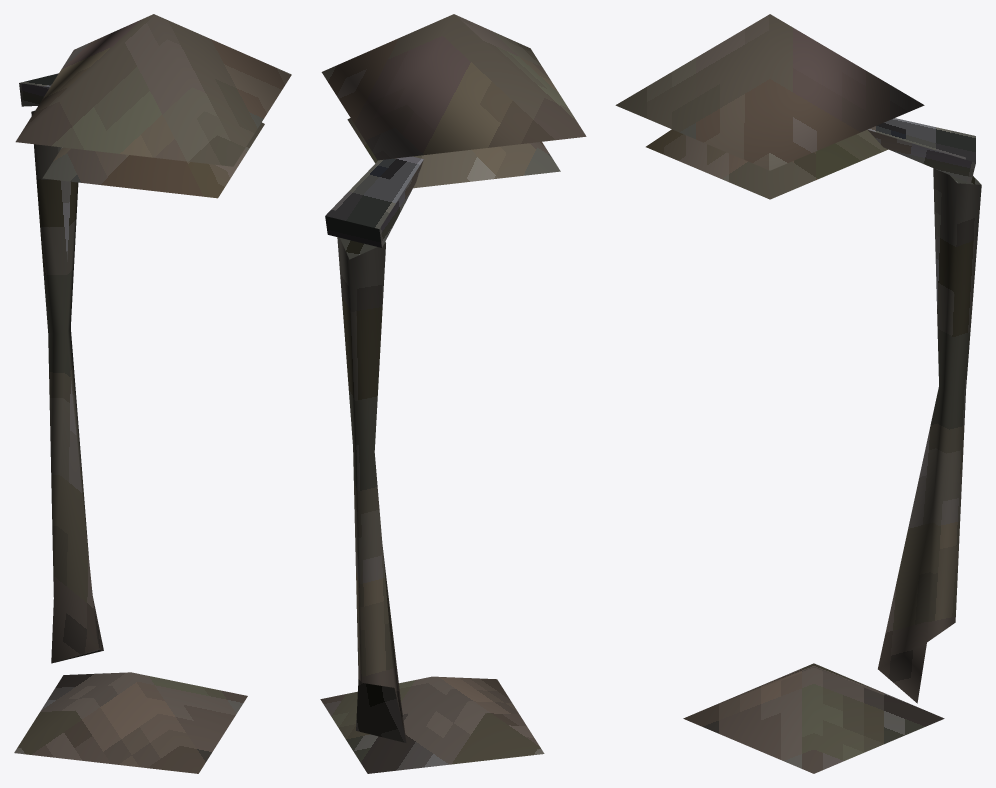
Rendered from frn_all_lamp_free_s5_l2.fbx.
3 views of the same model, side by side, from view 1: azimuth 30°, elevation 25°; view 2: azimuth 150°, elevation 25°; view 3: azimuth 270°, elevation 25° (orthographic). The views are drawn at different scales.
Visible parts, largest first — view 1: mesh_node; view 2: mesh_node; view 3: mesh_node.
Boxes of the visible parts, box(x1,y1,x2,y2) form: mesh_node: box(14, 14, 291, 773); mesh_node: box(320, 14, 586, 773); mesh_node: box(615, 14, 981, 773).
Bounding box in the file's own units: 0.1763 × 0.4427 × 0.2087.
